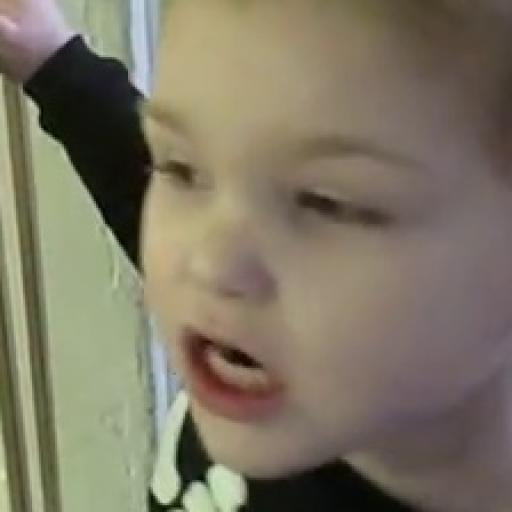Autism: (132, 0, 512, 512)
